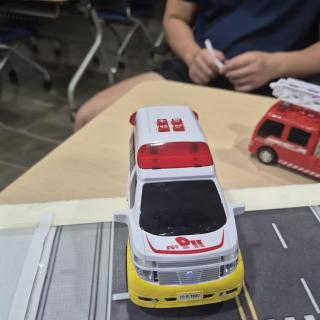Ambulance: (114, 106, 245, 308)
